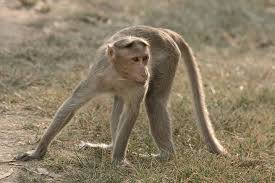monkey: (19, 24, 228, 160)
